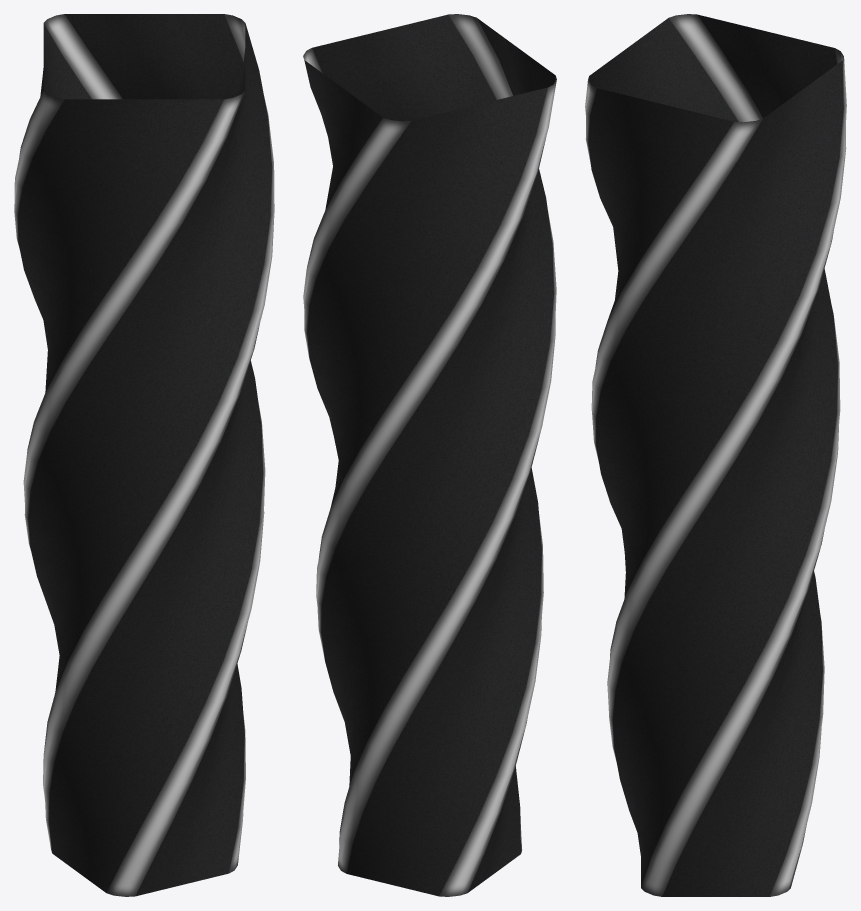
File: Column05.FBX
3 views of the same model, side by side, from view 1: azimuth 30°, elevation 25°; view 2: azimuth 150°, elevation 25°; view 3: azimuth 270°, elevation 25° (orthographic).
Parts seen in each view (by area): view 1: Column05; view 2: Column05; view 3: Column05.
Boxes of the visible parts, x1,y1,x2,y2 form: Column05: [14, 14, 274, 896]; Column05: [303, 14, 556, 896]; Column05: [585, 14, 846, 896].
Bounding box in the file's own units: 104 × 350 × 104.
